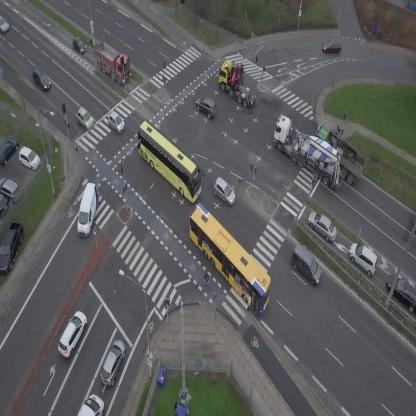bicycle: (200, 270, 211, 292)
bus: (173, 201, 285, 317), (124, 118, 214, 204)
car: (283, 243, 329, 287), (53, 308, 92, 359), (97, 337, 130, 388), (343, 238, 385, 278), (303, 207, 343, 244), (208, 176, 241, 208), (192, 92, 221, 120), (28, 66, 54, 93), (72, 106, 98, 132), (104, 109, 129, 134), (68, 34, 89, 57), (323, 39, 342, 53), (0, 16, 9, 33)
lorry: (261, 112, 358, 193), (308, 120, 372, 187), (210, 54, 270, 110), (85, 36, 140, 87), (72, 181, 103, 238), (77, 394, 104, 416)
